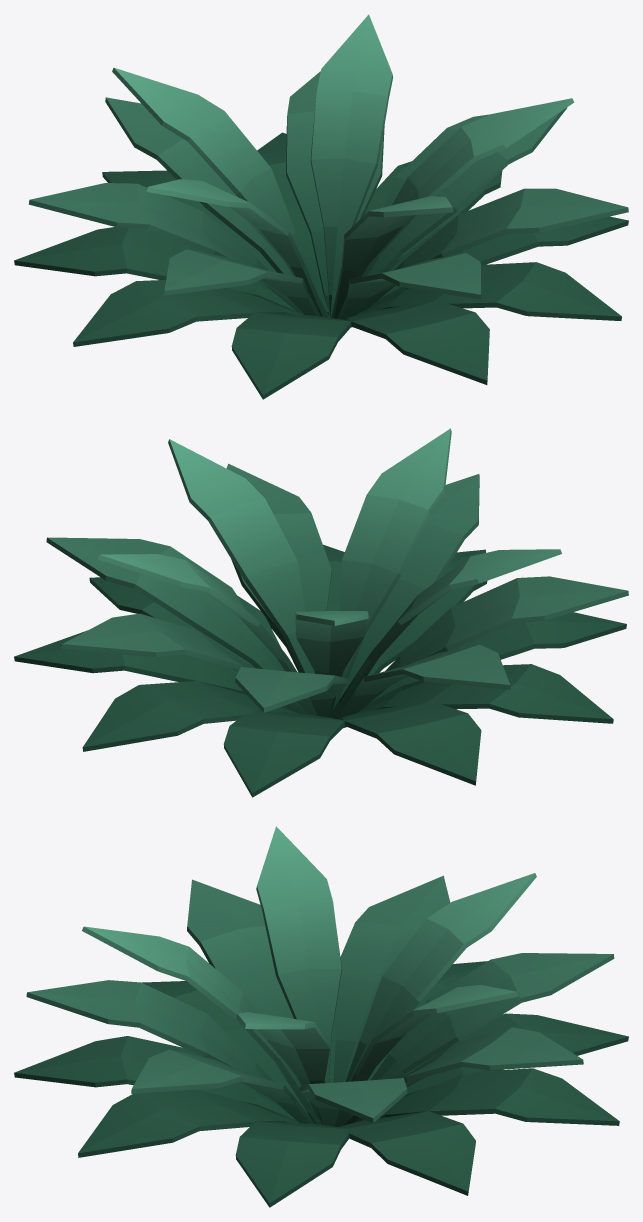
The model's file is desert_plant2.fbx.
3 views of the same model, one above another, from view 1: azimuth 30°, elevation 25°; view 2: azimuth 150°, elevation 25°; view 3: azimuth 270°, elevation 25° (orthographic).
Visible parts, largest first — view 1: lisc.005; view 2: lisc.005; view 3: lisc.005.
Part boxes in pixels (left/top/right/bottom): lisc.005: left=14, top=14, right=628, bottom=399; lisc.005: left=14, top=428, right=628, bottom=797; lisc.005: left=14, top=826, right=628, bottom=1207.
Size of the model in its own units: 223 by 85.81 by 221.
